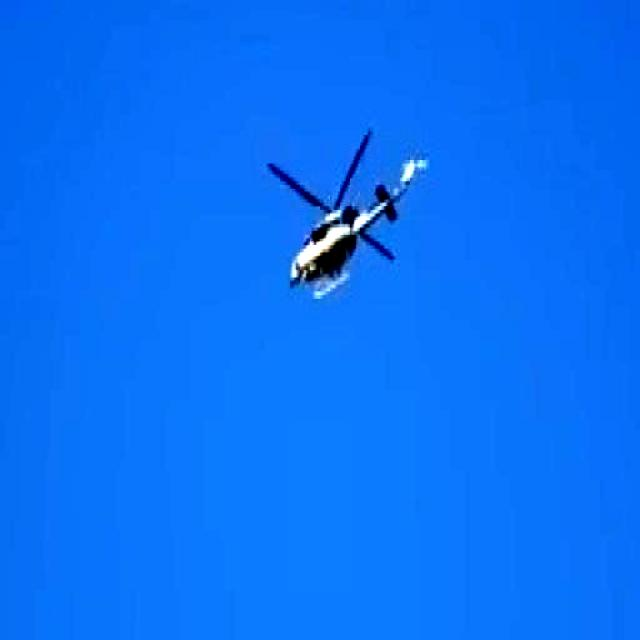drone: (254, 144, 435, 322)
